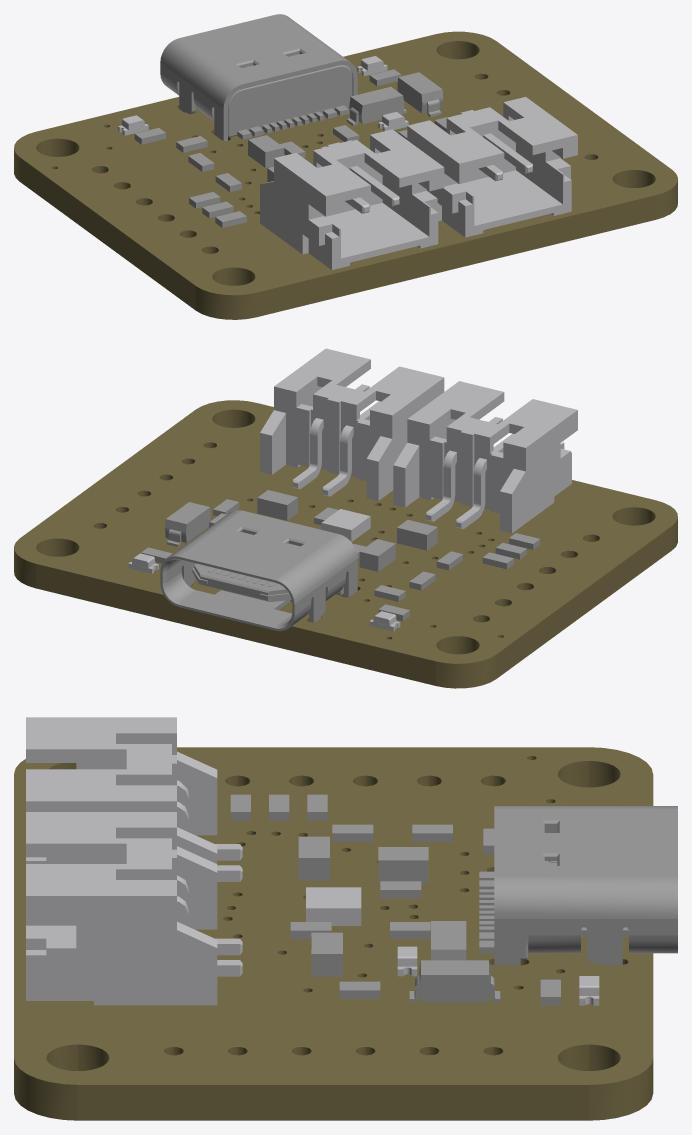
Rendered from ada-6091.glb.
The picture shows the model from 3 angles, top to bottom: view 1: azimuth 30°, elevation 25°; view 2: azimuth 150°, elevation 25°; view 3: azimuth 270°, elevation 25°; orthographic projection. The views are drawn at different scales.
Parts seen in each view (by area): view 1: 0.16666666666666666_0.16666666666666666_0.08333333333333333_, 0.5833333333333334_0.5833333333333334_0.5833333333333334_0.8, 0.3333333333333333_0.3333333333333333_0.3333333333333333_0; view 2: 0.16666666666666666_0.16666666666666666_0.08333333333333333_, 0.5833333333333334_0.5833333333333334_0.5833333333333334_0.8, 0.3333333333333333_0.3333333333333333_0.3333333333333333_0; view 3: 0.16666666666666666_0.16666666666666666_0.08333333333333333_, 0.5833333333333334_0.5833333333333334_0.5833333333333334_0.8, 0.3333333333333333_0.3333333333333333_0.3333333333333333_0.
Part boxes in pixels (left/top/right/bottom): 0.16666666666666666_0.16666666666666666_0.08333333333333333_: left=14, top=31, right=677, bottom=319; 0.5833333333333334_0.5833333333333334_0.5833333333333334_0.8: left=118, top=56, right=577, bottom=269; 0.3333333333333333_0.3333333333333333_0.3333333333333333_0: left=134, top=14, right=446, bottom=227; 0.16666666666666666_0.16666666666666666_0.08333333333333333_: left=14, top=400, right=677, bottom=688; 0.5833333333333334_0.5833333333333334_0.5833333333333334_0.8: left=128, top=348, right=577, bottom=631; 0.3333333333333333_0.3333333333333333_0.3333333333333333_0: left=141, top=490, right=540, bottom=631; 0.16666666666666666_0.16666666666666666_0.08333333333333333_: left=14, top=747, right=653, bottom=1120; 0.5833333333333334_0.5833333333333334_0.5833333333333334_0.8: left=26, top=717, right=599, bottom=1005; 0.3333333333333333_0.3333333333333333_0.3333333333333333_0: left=230, top=794, right=677, bottom=1005.
Size of the model in its own units: 3.17 by 0.6369 by 2.64.
